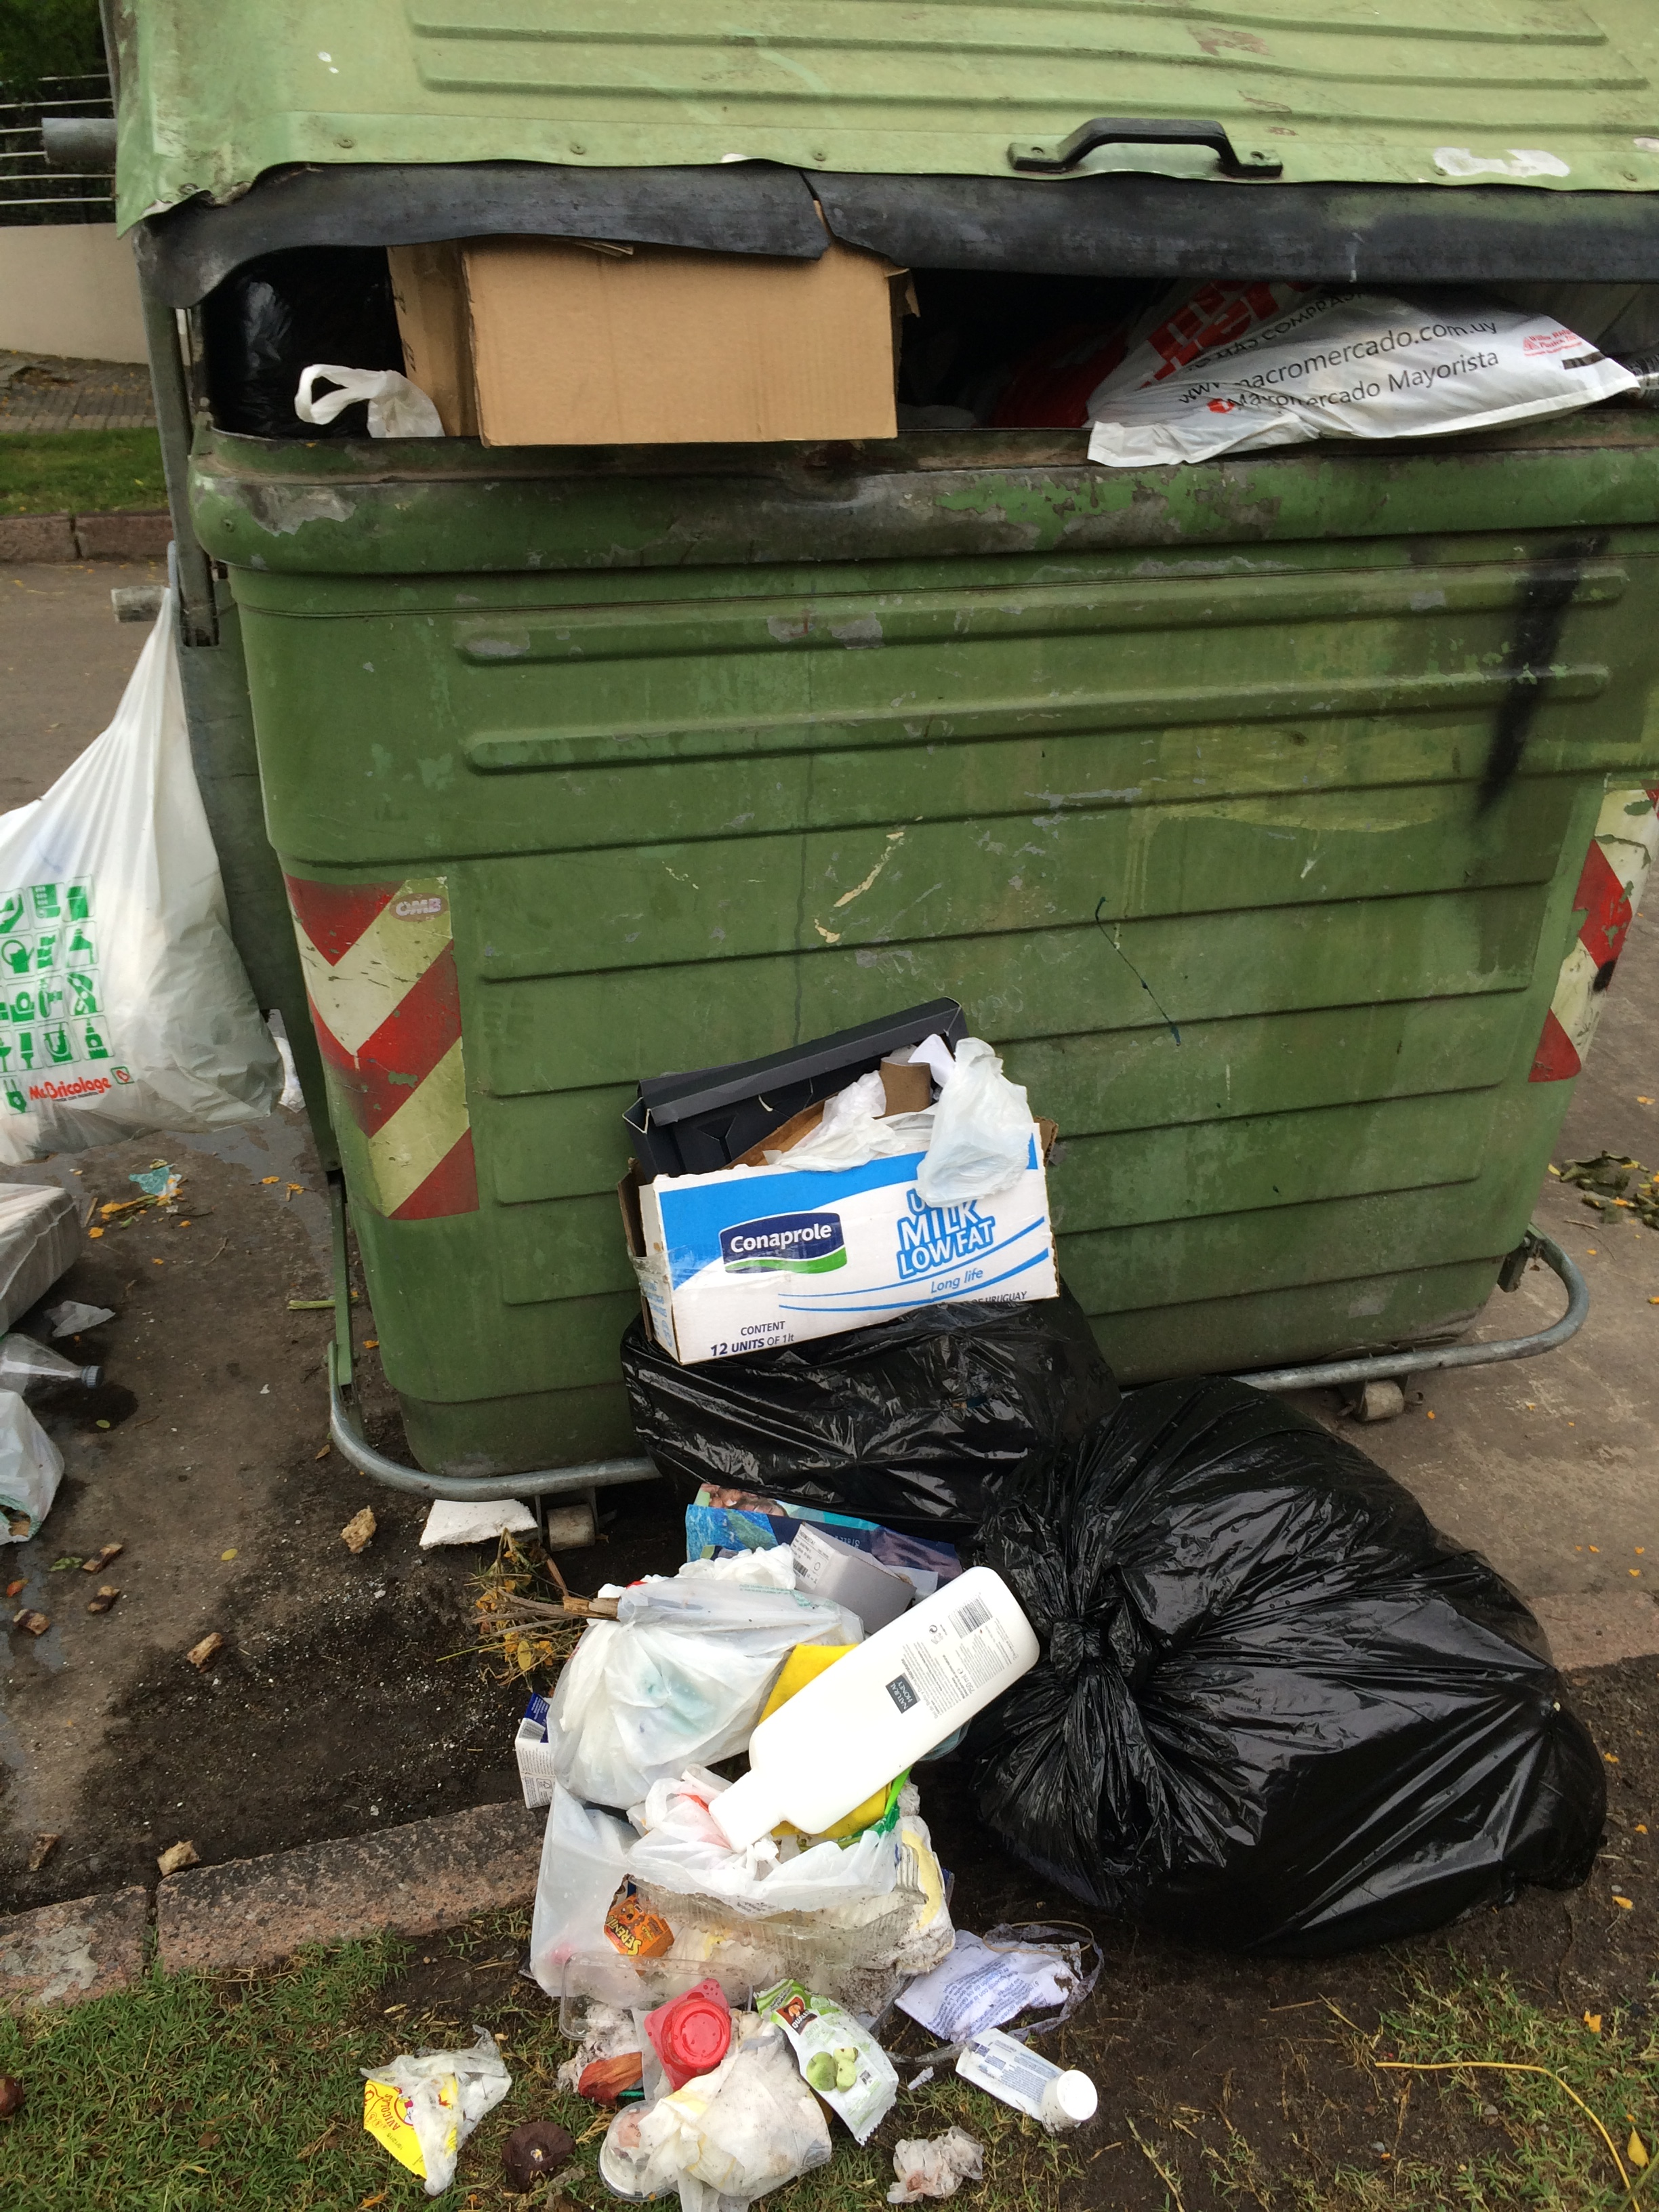container: (80, 3, 1659, 1503)
